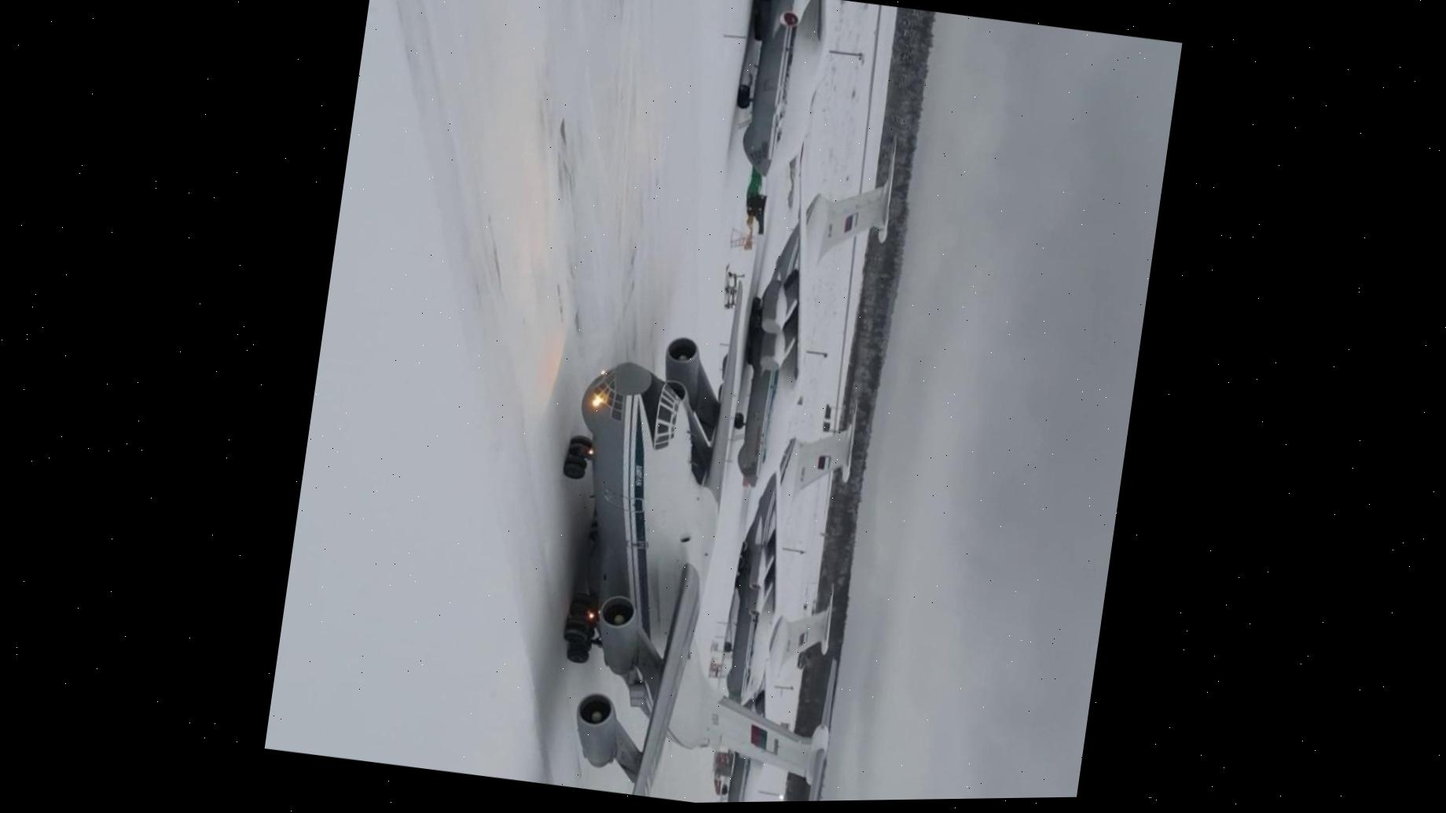plane: (520, 245, 896, 805), (718, 117, 922, 508), (712, 383, 863, 720), (726, 0, 917, 204), (721, 562, 839, 802)
